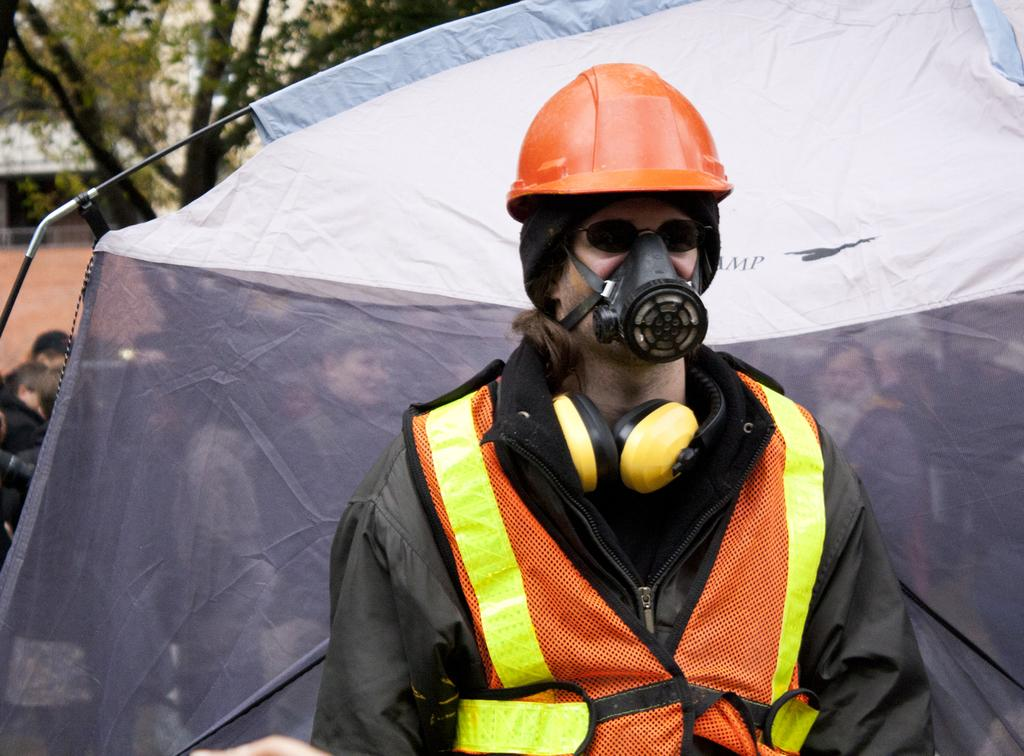helmet: (506, 62, 734, 352)
